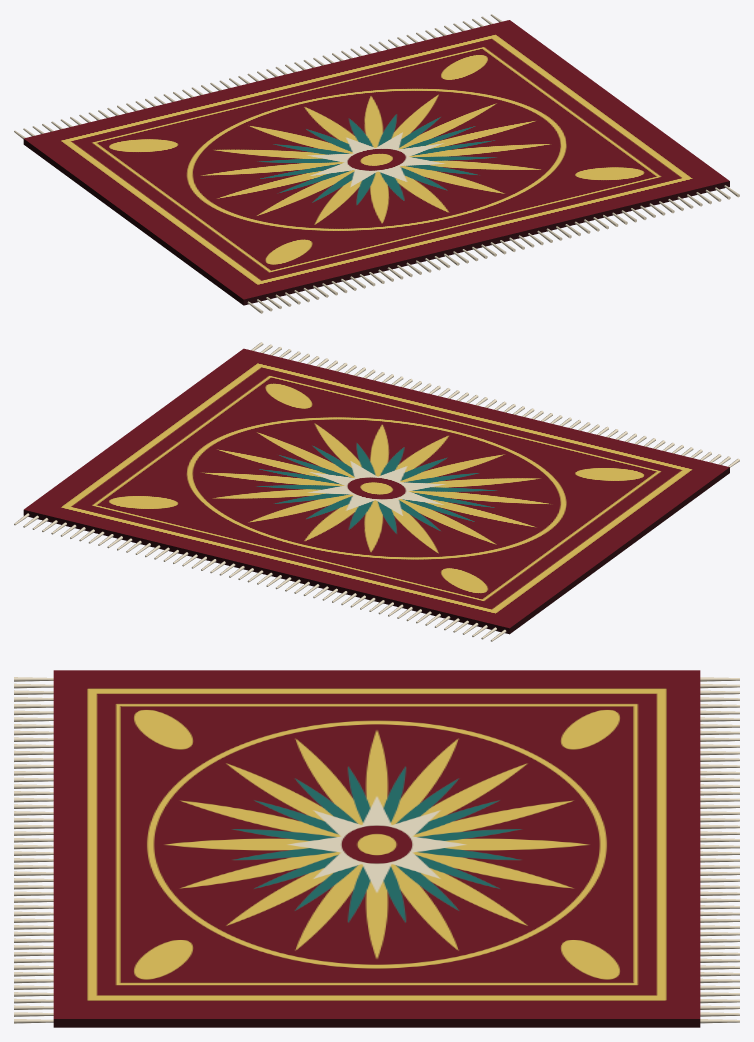
The model's file is carpet_persian.glb.
3 renders of one model, top to bottom at view 1: azimuth 30°, elevation 25°; view 2: azimuth 150°, elevation 25°; view 3: azimuth 270°, elevation 25°, orthographic. The views are drawn at different scales.
Visible parts, largest first — view 1: carpet; view 2: carpet; view 3: carpet.
Boxes of the visible parts, <box> form: carpet: <box>23,20,729,305</box>; carpet: <box>23,348,729,634</box>; carpet: <box>53,670,700,1027</box>.
Bounding box in the file's own units: 1.02 × 0.012 × 0.898.
Materials: 3 (1 with a texture image).
